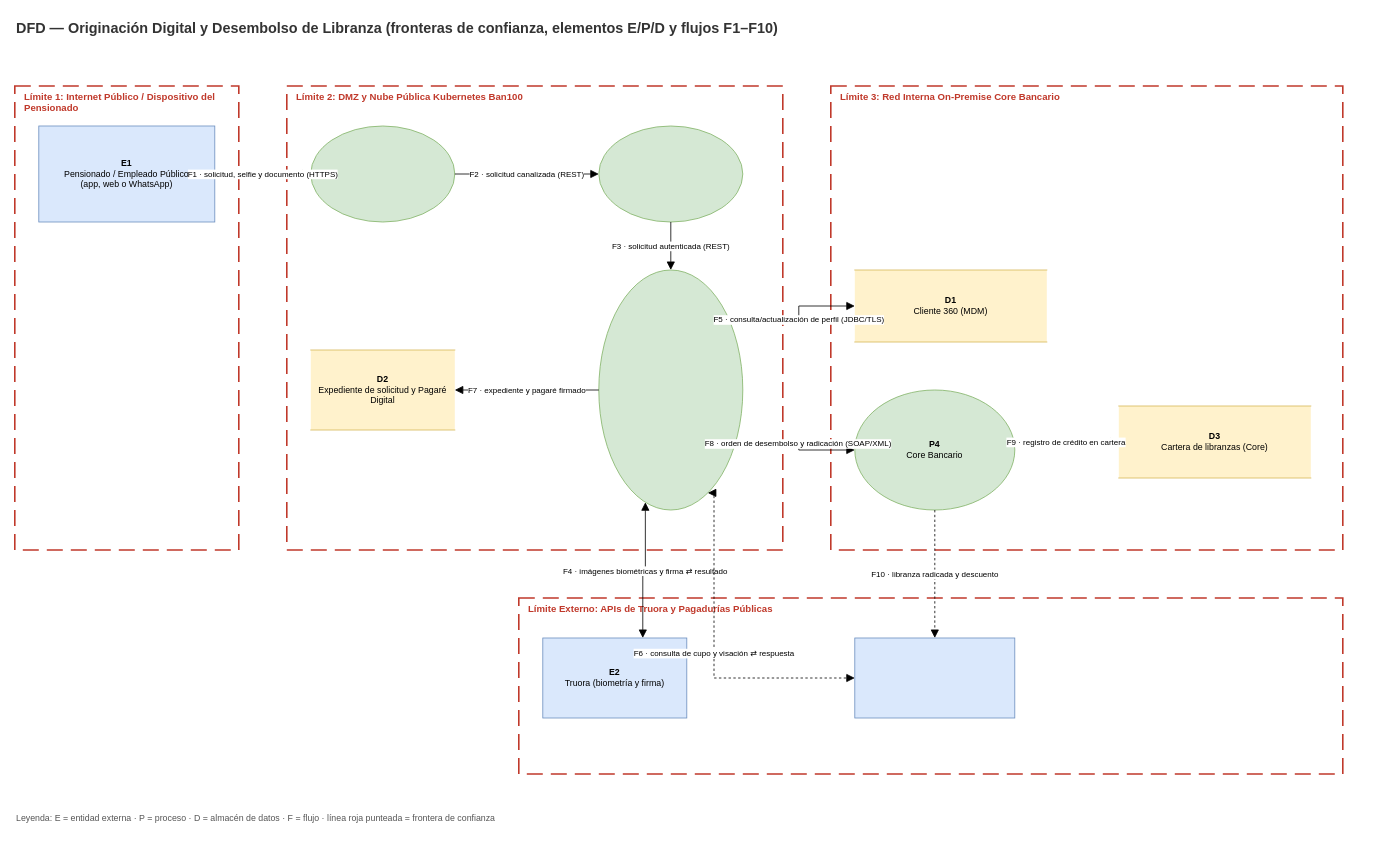
The diagram is 1388 pixels wide and 843 high, and some of its shapes have lost their labels. The shapes that lost their labels are listed below. From the top down, each one's centre as x and y in pixels, then its label:
At (x=382, y=173): "P1 Canales Digitales y Ban-I Bot".
At (x=670, y=173): "P2 API Gateway".
At (x=670, y=389): "P3 μS Originación y Scoring".
At (x=934, y=677): "E3 Pagaduría Pública (G1–G5)".
